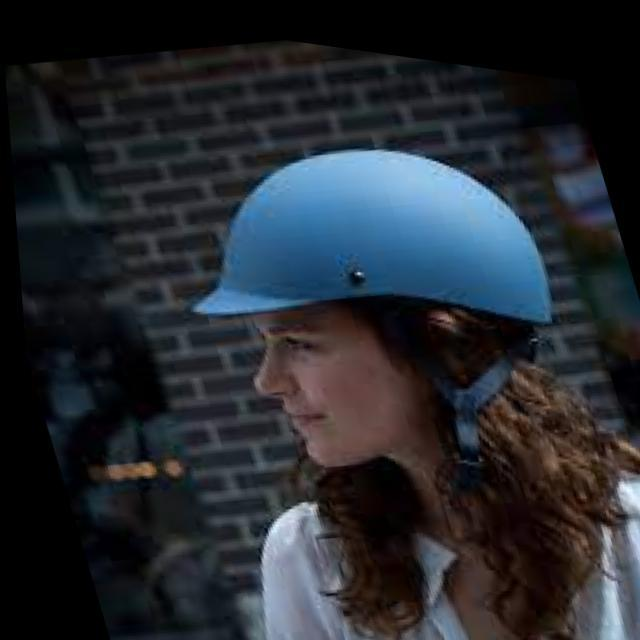Helmet: (189, 144, 556, 489)
